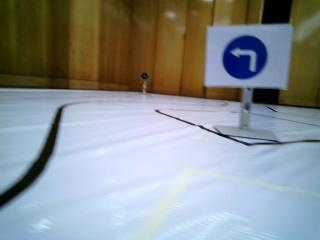left: (216, 36, 275, 79)
